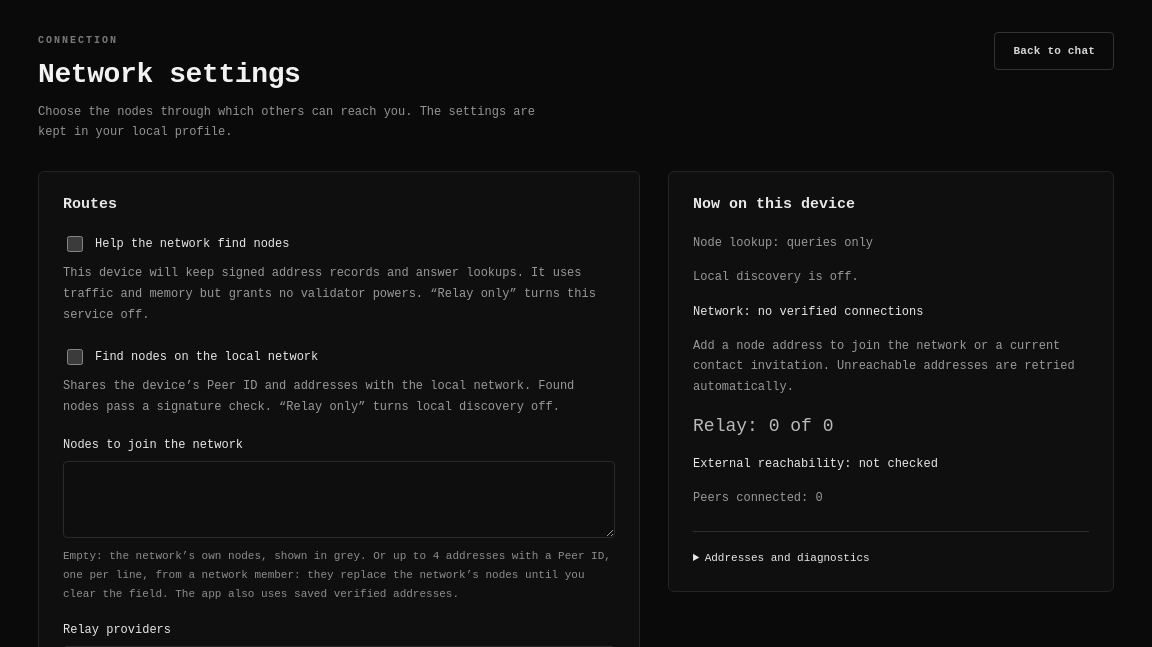
saves DHT service explicitly and retains the same role and revision after a lost reply
Check: the text "Node lookup: queries only" is shown, box [693,236,873,250]
Click the checkbox labelled "Help the network find nodes".
click(75, 244)  # box [67,236,83,252]
(page scrolled)
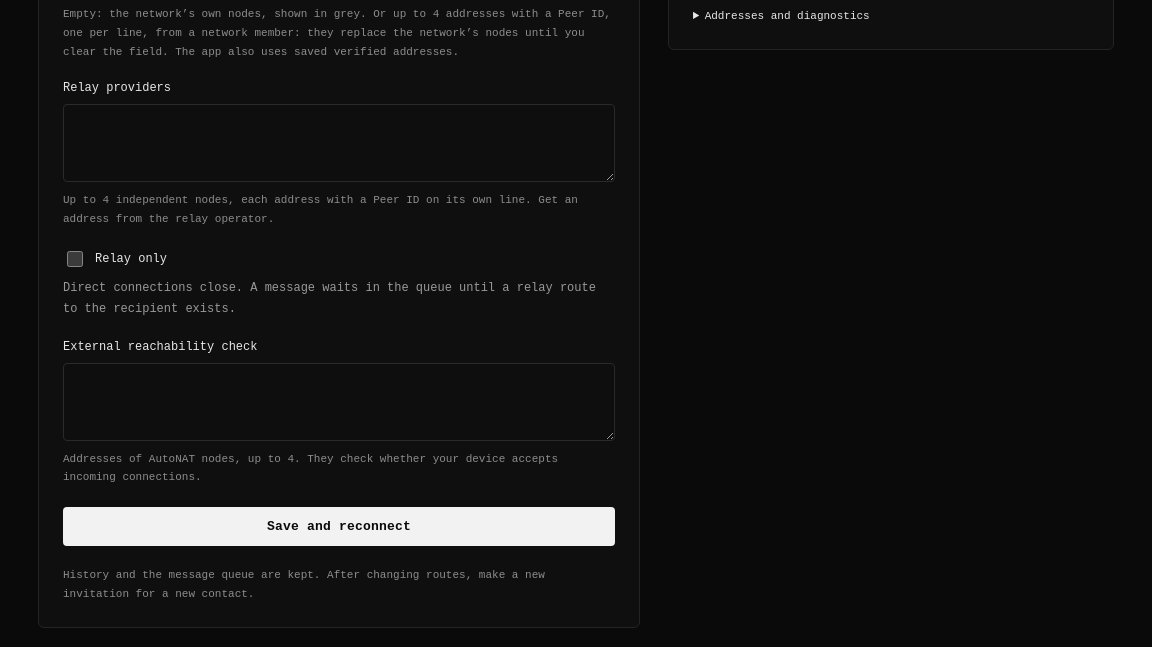
Click the button "Save and reconnect".
click(339, 527)  # box [63,507,615,546]
(page scrolled)
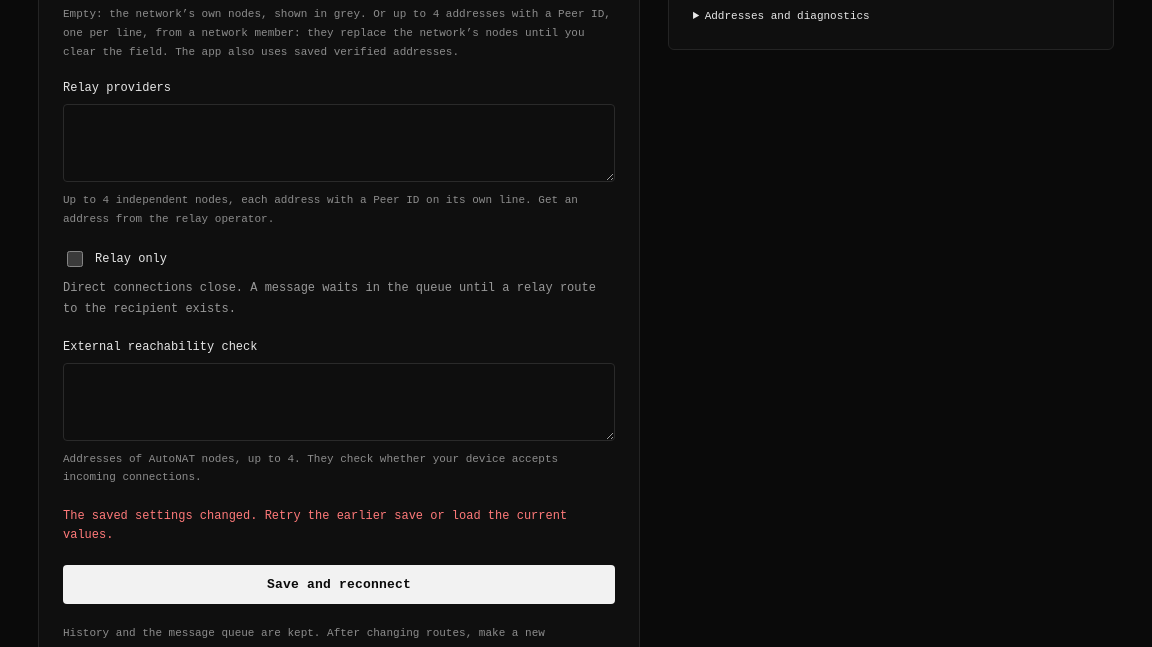
Click the button "Save and reconnect".
click(339, 585)  # box [63,566,615,604]
(page scrolled)
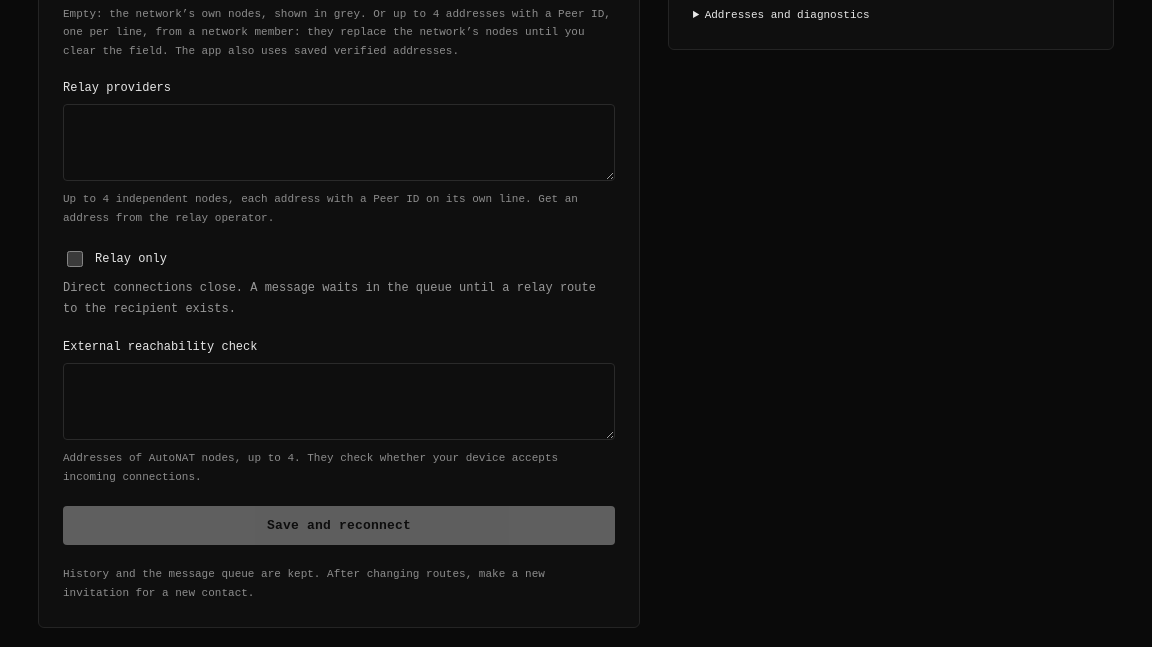
Check: the button "Save and reconnect" is disabled, box [63,506,615,546]
